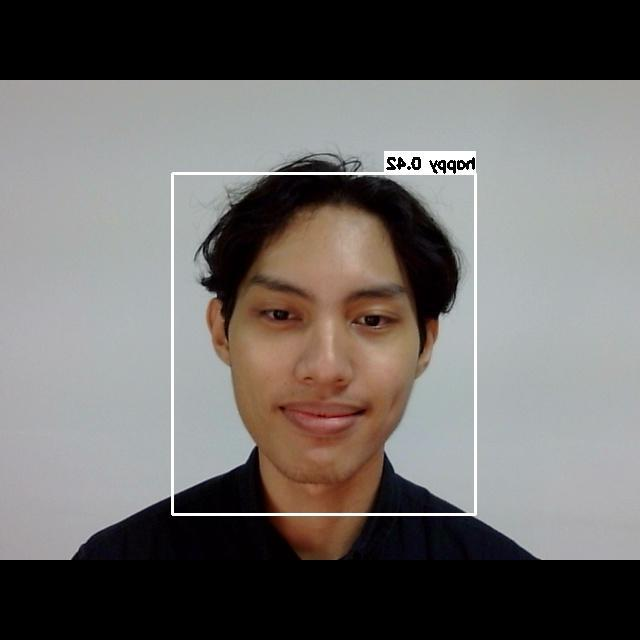Happy: (221, 256, 419, 453)
